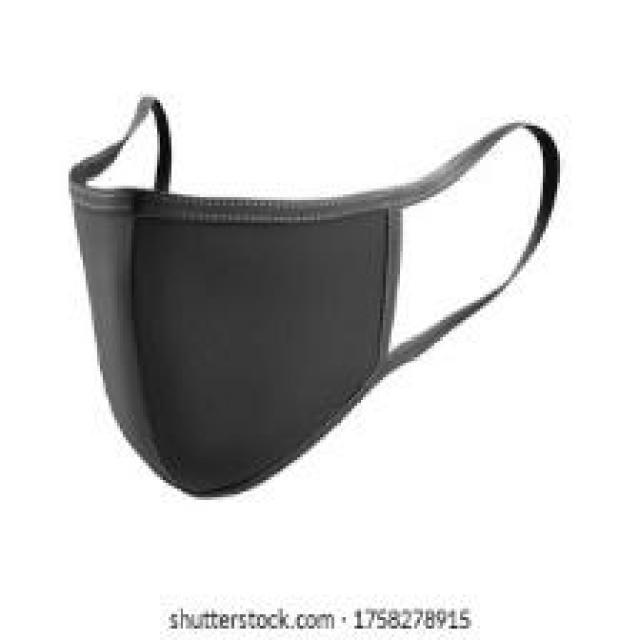Mask: (67, 79, 564, 551)
